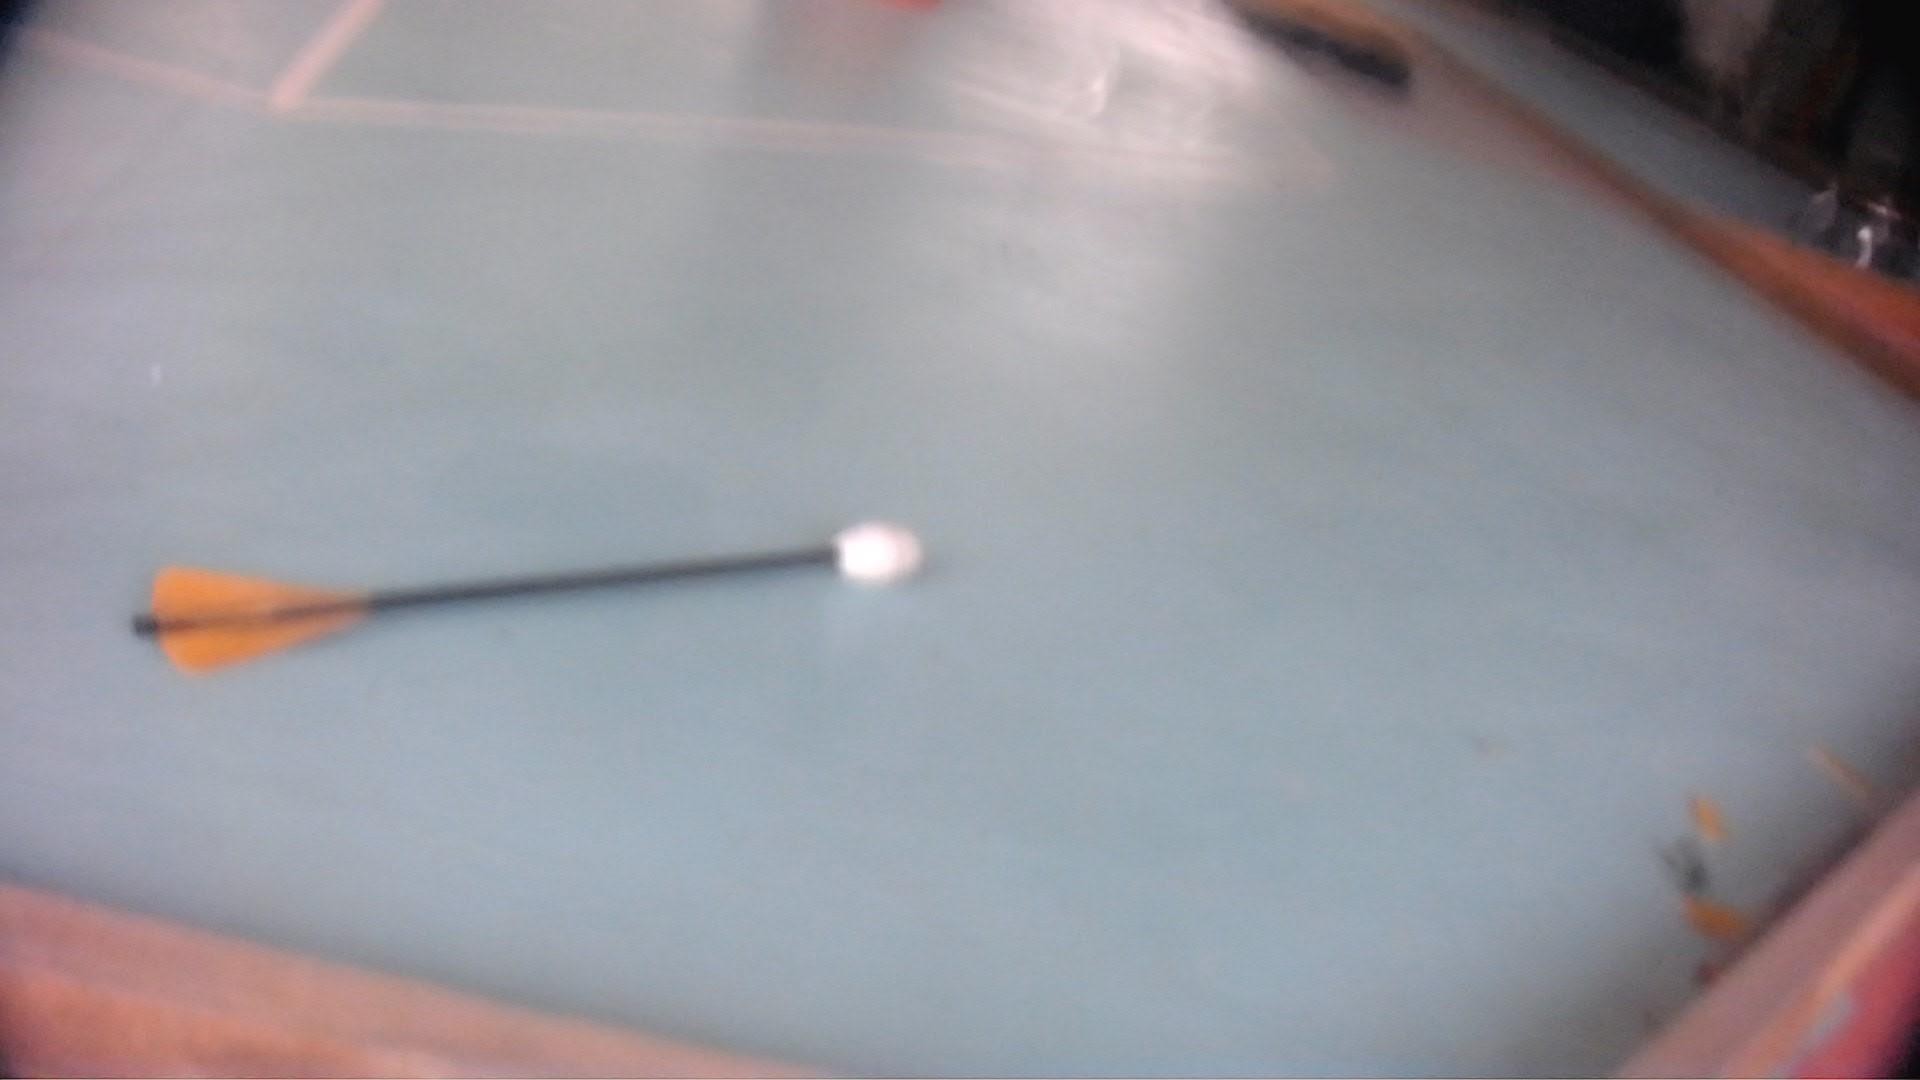arrow: (133, 520, 926, 675)
arrowFront: (825, 520, 926, 584)
